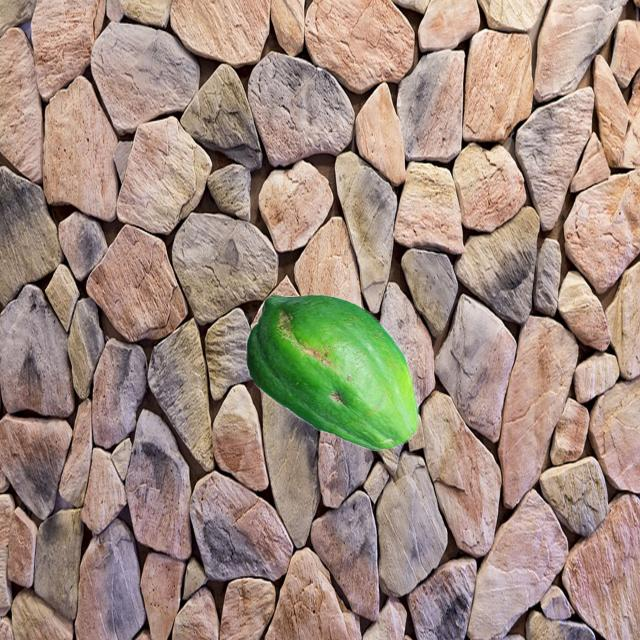Pepaya unrippen: (245, 288, 429, 457)
